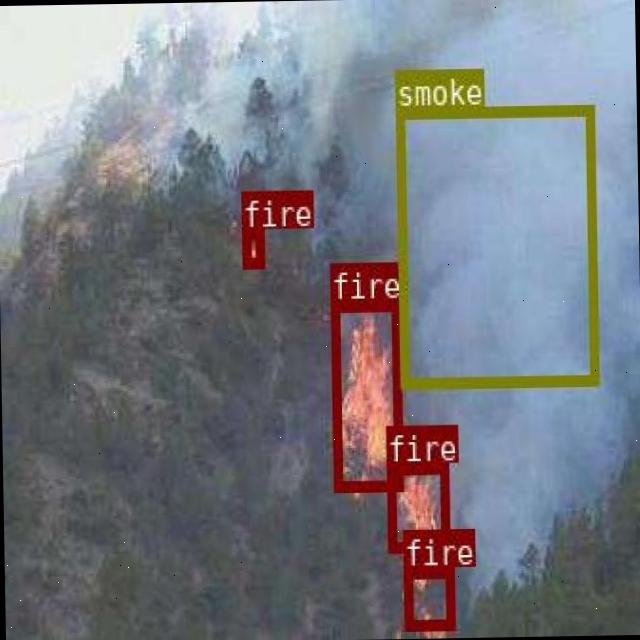fire: (329, 300, 401, 488), (384, 462, 448, 551), (402, 566, 453, 628), (239, 228, 262, 266)
smoke: (394, 102, 597, 386)
